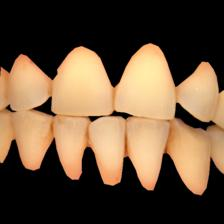cavity: (84, 124, 93, 148), (123, 130, 130, 156), (110, 87, 119, 107), (164, 131, 172, 152), (47, 79, 56, 95), (49, 122, 56, 140)
tooth: (118, 41, 178, 122), (52, 46, 114, 116), (128, 115, 170, 193), (171, 119, 213, 196), (92, 115, 132, 186), (177, 58, 219, 122), (11, 110, 54, 171), (55, 114, 92, 180), (9, 54, 50, 112)
